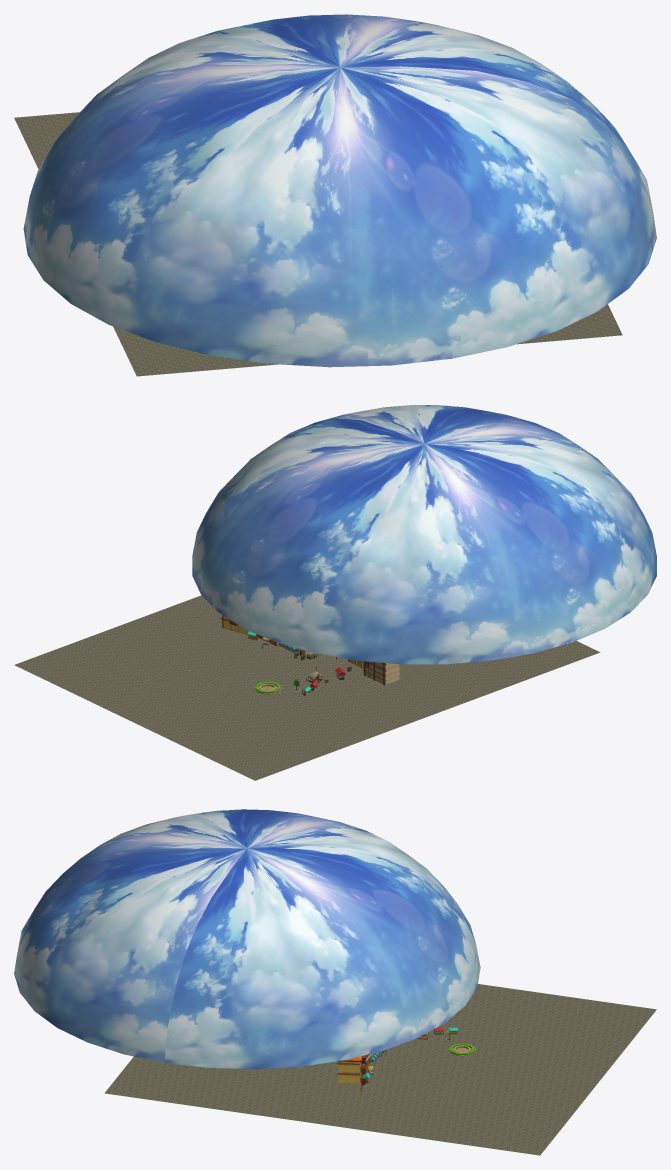
The model's file is market.fbx.
3 views of the same model, one above another, from view 1: azimuth 30°, elevation 25°; view 2: azimuth 150°, elevation 25°; view 3: azimuth 270°, elevation 25° (orthographic). The views are drawn at different scales.
Parts seen in each view (by area): view 1: market_sky, market_ground; view 2: market_sky, market_ground, market; view 3: market_sky, market_ground, market.
Part boxes in pixels (x1,y1,x2,y2): market_sky: (23,14,656,367); market_ground: (14,112,622,376); market_sky: (192,405,656,664); market_ground: (14,595,600,780); market: (220,615,400,695); market_sky: (14,809,480,1069); market_ground: (105,984,656,1155); market: (300,1027,475,1097).
Size of the model in its own units: 307 by 113 by 366.
Materials: 10 (10 with a texture image).
